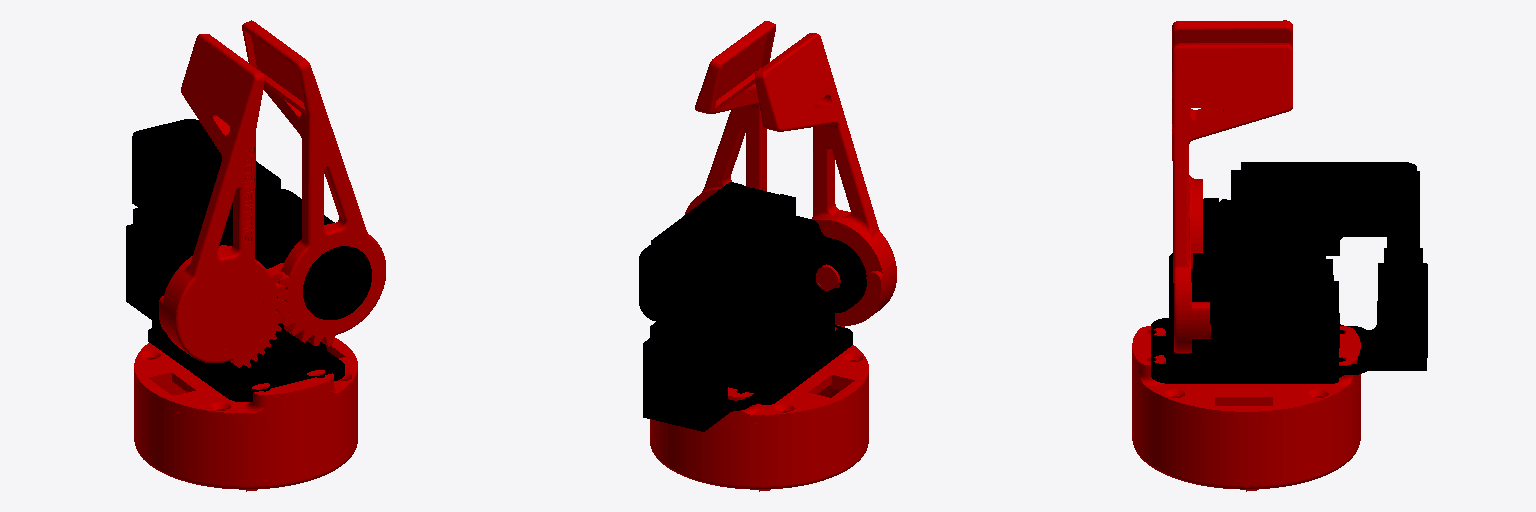
The robot description file, URDF, robot "hek_4L_1.0":
<?xml version="1.0"?>
<robot name="hek_4L_1.0">

  <link name="base_footprint">
    <visual>
      <origin xyz="0 0 0" rpy="0 0 0"/>
      <geometry>
        <mesh filename="package://hekateros_desc/stl/hek_4L_1.0/base.stl" 
              scale="0.001 0.001 0.001"
        />
      </geometry>
      <material name="black">
        <color rgba="0 0 0 0.7"/>
      </material>
    </visual>
  </link>

  <link name="upper_arm">
    <visual>
      <origin xyz="0.0 0.02 0.18" rpy="1.5705 1.5705 -1.5705"/>
      <geometry>
        <mesh filename="package://hekateros_desc/stl/hek_4L_1.0/upper_arm.stl" 
              scale="0.001 0.001 0.001"
        />
      </geometry>
      <material name="red">
        <color rgba="0.8 0 0 0.9"/>
      </material>
    </visual>
  </link>

  <link name="forearm">
    <visual>
      <origin xyz="0. 0.0 0.03" rpy="03.1415 0 1.5705"/>
      <geometry>
        <mesh filename="package://hekateros_desc/stl/hek_4L_1.0/forearm.stl" 
              scale="0.001 0.001 0.001"
        />
      </geometry>
      <material name="red">
        <color rgba="0.8 0 0 0.9"/>
      </material>
    </visual>
  </link>

  <link name="wrist_link">
    <visual>
      <origin xyz="0.0 0 -0.017" rpy="0 0 0"/>
      <geometry>
        <mesh filename="package://hekateros_desc/stl/hek_4L_1.0/wrist.stl" 
              scale="0.001 0.001 0.001"
        />
      </geometry>
      <material name="black">
        <color rgba="0 0 0 0.9"/>
      </material>
    </visual>
  </link>

  <link name="tool_zero">
    <visual>
      <origin xyz="0 0.06 0" rpy="3.14159 0 0"/>
      <geometry>
        <mesh filename="package://hekateros_desc/stl/hek_4L_1.0/tool_zero.stl" 
              scale="0.001 0.001 0.001"
        />
      </geometry>
      <material name="red">
        <color rgba="0.8 0 0 0.9"/>
      </material>
    </visual>
  </link>

  <joint name="shoulder" type="revolute">
    <origin xyz="0.23 -0.04 0.11" rpy="0 0 0"/>
    <parent link="base_footprint"/>
    <child link="upper_arm"/>

    <limit effort="30" velocity="1.0" lower="-1.57" upper="1.57" />
  </joint>

  <joint name="elbow" type="revolute">
    <origin xyz="-0.015 0.0 0.405" rpy="0 0 0"/>
    <parent link="upper_arm"/>
    <child link="forearm"/>

    <limit effort="30" velocity="1.0" lower="-1.9" upper="1.9" />
  </joint>

  <joint name="wrist_pitch" type="revolute">
    <origin xyz="-0.005 0 0.40" rpy="0 0 0"/>
    <parent link="forearm"/>
    <child link="wrist_link"/>

    <limit effort="30" velocity="1.0" lower="-1.57" upper="1.57" />
  </joint>

  <joint name="wrist_rot" type="continuous">
    <origin xyz="0 0 0.025" rpy="0 0 0"/>
    <axis xyz="0 0 1"/>
    <parent link="wrist_link"/>
    <child link="tool_zero"/>

    <limit effort="30" velocity="1.0" lower="-1.57" upper="1.57" />
  </joint>

  <!-- EEF -->
  <link name="gear_assembly">
    <visual>
      <origin xyz="0 0 0.02" rpy="0 -1.575 3.14159"/>
      <geometry>
        <mesh filename="package://hekateros_desc/stl/graboid/gear_assembly.stl" 
              scale="0.001 0.001 0.001"
        />
      </geometry>
      <material name="black">
        <color rgba="0 0 0 0.7"/>
      </material>
    </visual>
  </link>

  <link name="finger_R">
    <visual>
      <origin xyz="0 0 0" rpy="0 0 -1.7"/>
      <geometry>
        <mesh filename="package://hekateros_desc/stl/graboid/finger_R.stl" 
              scale="0.001 0.001 0.001"
        />
      </geometry>
      <material name="red">
        <color rgba="0.8 0 0 0.9"/>
      </material>
    </visual>
  </link>

  <link name="finger_L">
    <visual>
      <origin xyz="0 0 0" rpy="0 -3.141 -1.575"/>
      <geometry>
        <mesh filename="package://hekateros_desc/stl/graboid/finger_L.stl" 
              scale="0.001 0.001 0.001"
        />
      </geometry>
      <material name="red">
        <color rgba="0.8 0 0 0.9"/>
      </material>
    </visual>
  </link>

  <joint name="grip" type="revolute">
    <axis xyz="0 0 1"/>
    <origin xyz="0.005 -0.04 0.03" rpy="0 -1.575 0"/>
    <parent link="gear_assembly"/>
    <child link="finger_R"/>

    <limit effort="30" velocity="1.0" lower="-1.57" upper="0" />
  </joint>

  <joint name="grip_mimic" type="revolute">
    <axis xyz="0 0 1"/>
    <origin xyz="0.0 0.0 0.03" rpy="0 -1.575 0"/>
    <parent link="gear_assembly"/>
    <child link="finger_L"/>
    
    <limit effort="30" velocity="1.0" lower="-1.57" upper="1.57" />
    <mimic joint="grip" multiplier="1"/>
  </joint>


  <joint name="eef_connect" type="fixed">
    <origin xyz="-0.02 -0.025 0.03" rpy="0 0 1.575"/>
    <parent link="tool_zero"/>
    <child link="gear_assembly"/>
  </joint>

</robot>

--- What the picture shows (computed from the rendered views, not written in the file) ---
The picture shows the robot from 3 angles, left to right: view 1: azimuth 30°, elevation 25°; view 2: azimuth 150°, elevation 25°; view 3: azimuth 270°, elevation 25°; orthographic projection.
Model hek_4L_1.0 with 8 links and 7 joints (5 revolute, 1 continuous, 1 fixed), rooted at base_footprint, posed every joint at zero.
Links seen in each view (by area): view 1: gear_assembly, tool_zero, finger_L, finger_R; view 2: gear_assembly, tool_zero, finger_L, finger_R; view 3: gear_assembly, tool_zero, finger_R, finger_L.
Link boxes in pixels (x1,y1,x2,y2): gear_assembly: (126,119,371,401); tool_zero: (134,338,357,491); finger_L: (159,34,285,367); finger_R: (242,20,385,346); gear_assembly: (639,182,866,431); tool_zero: (650,325,868,491); finger_L: (755,33,896,325); finger_R: (684,21,775,215); gear_assembly: (1151,162,1427,383); tool_zero: (1132,326,1360,491); finger_R: (1172,43,1292,353); finger_L: (1172,20,1292,268).
Bounding box of the posed robot: 0.0764 × 0.0905 × 0.1517 m (x, y, z).
Meshes: 8 distinct files referenced, 4 mesh visuals loaded (4 binary STL); not drawn: 4 (reference not matched to a file when rendering).